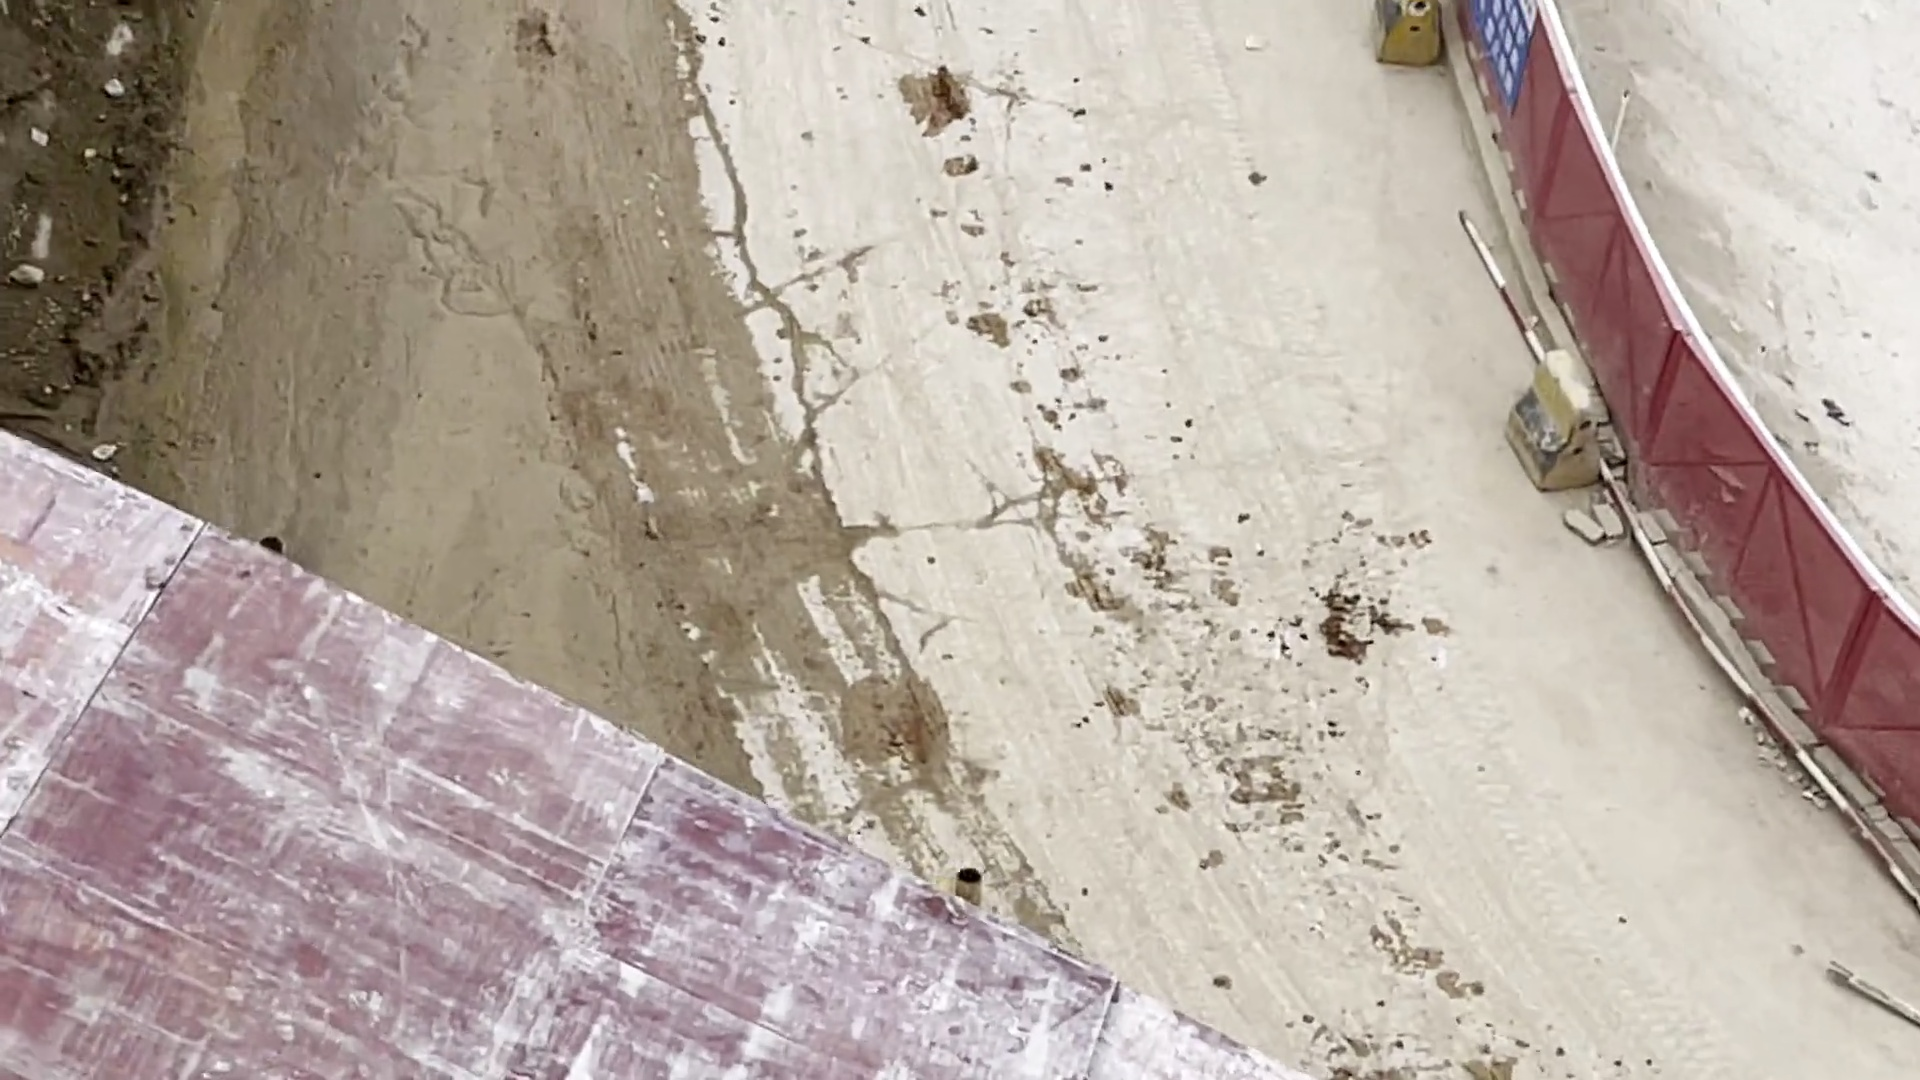fence: (1648, 334, 1920, 858), (1457, 3, 1683, 493)
slogan: (1462, 1, 1564, 123)
